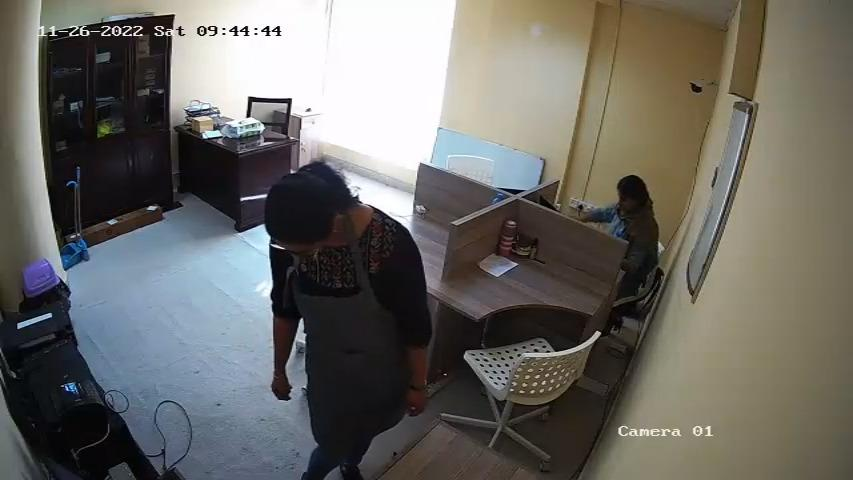apron: (295, 253, 386, 422)
